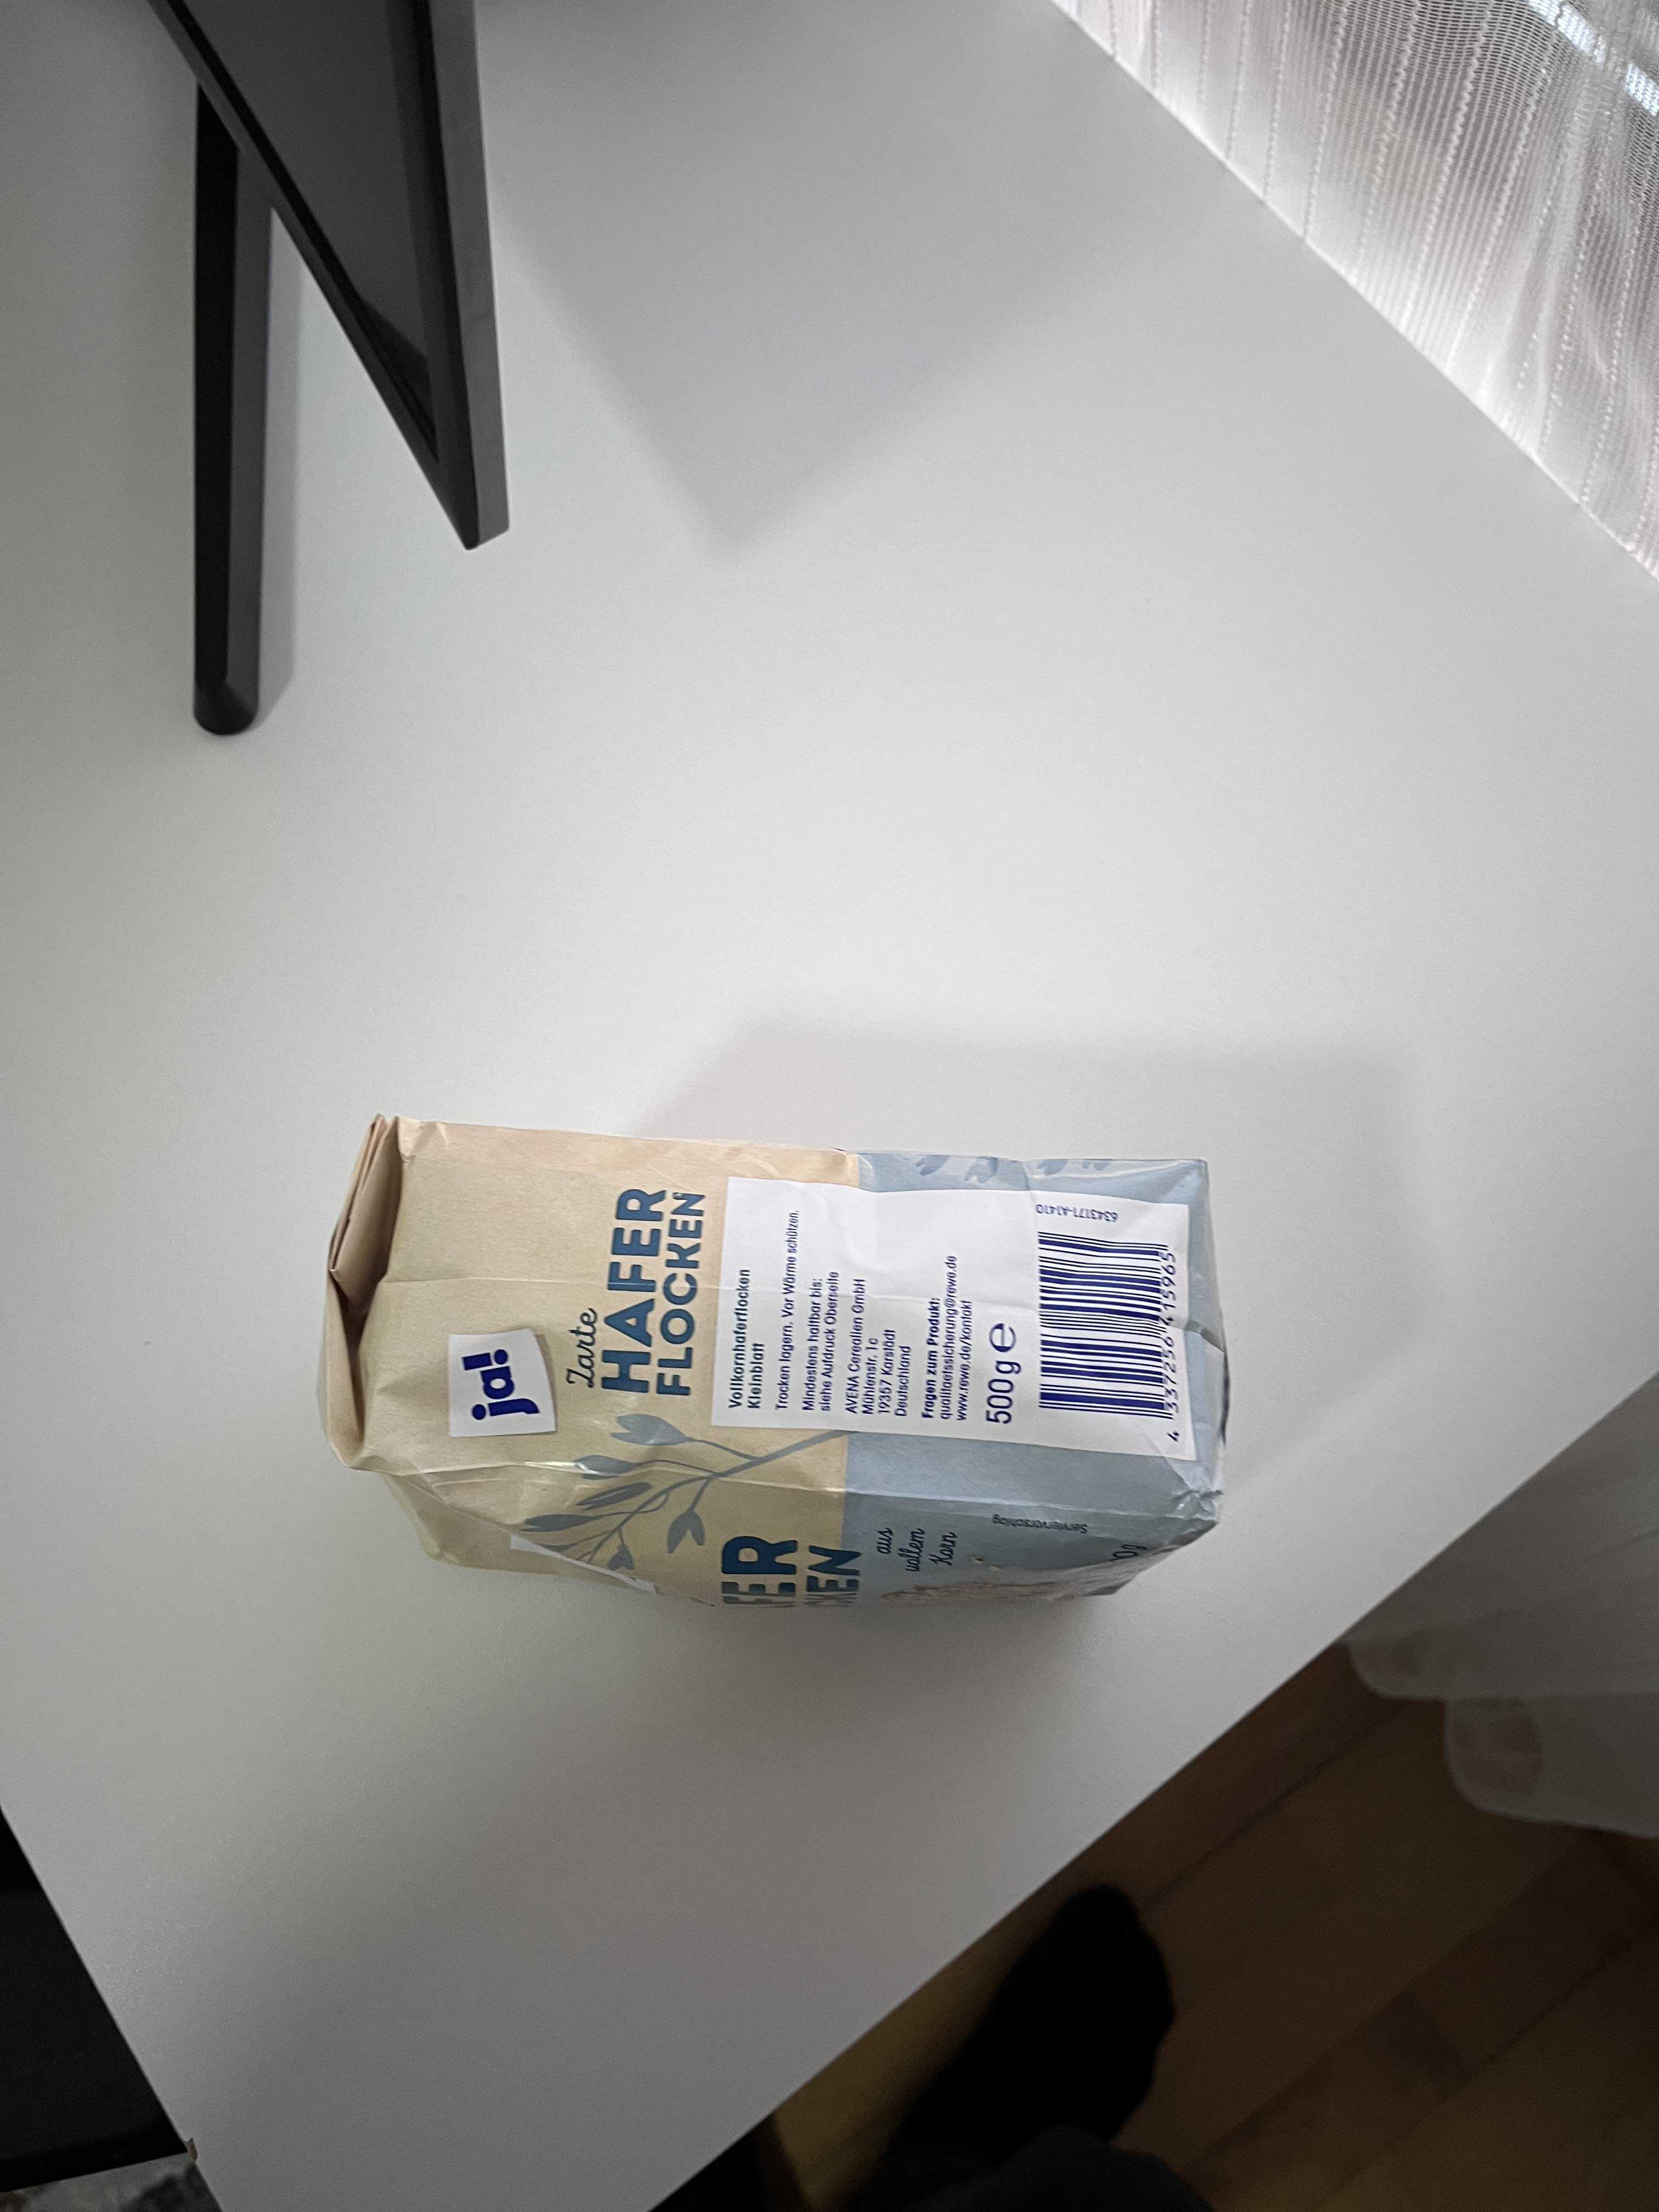haferflocken_ja: (317, 1113, 1230, 1623)
